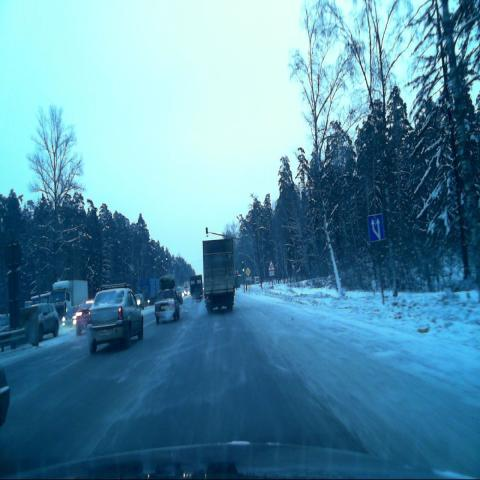5_15_3: (367, 214, 384, 244)
